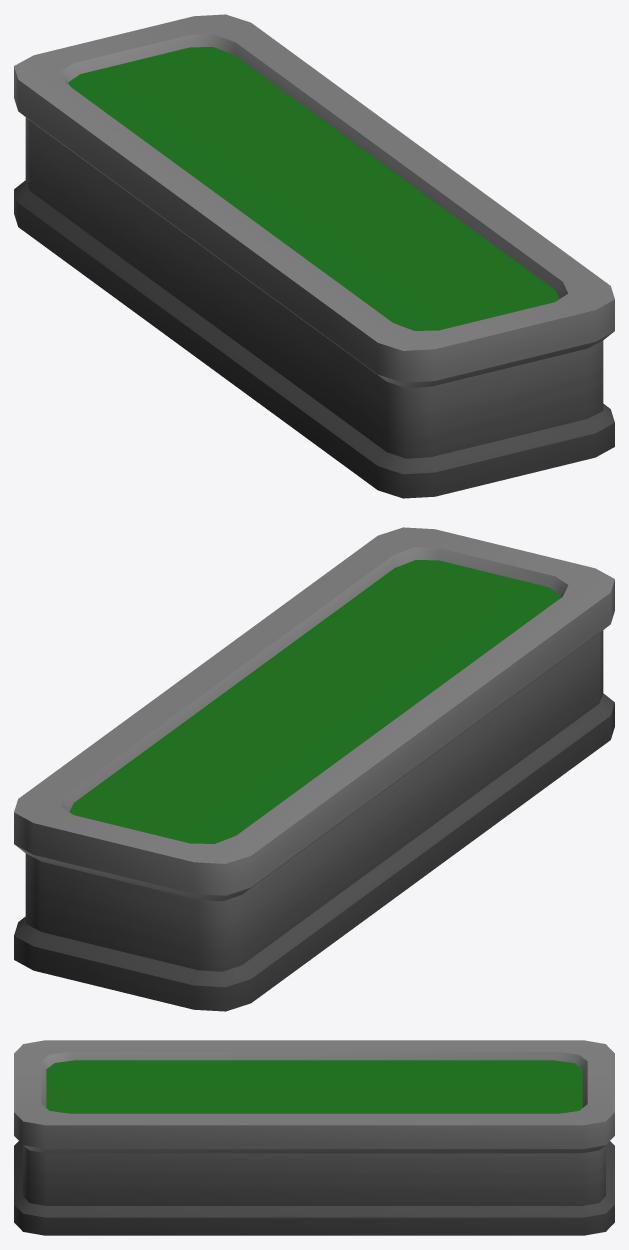
The model's file is FlowerPlacet_5_1_A.fbx.
3 renders of one model, top to bottom at view 1: azimuth 30°, elevation 25°; view 2: azimuth 150°, elevation 25°; view 3: azimuth 270°, elevation 25°, orthographic. The views are drawn at different scales.
Visible parts, largest first — view 1: FlowerPlacet_5_1_A; view 2: FlowerPlacet_5_1_A; view 3: FlowerPlacet_5_1_A.
Boxes of the visible parts, x1,y1,x2,y2 form: FlowerPlacet_5_1_A: [14, 14, 614, 498]; FlowerPlacet_5_1_A: [14, 527, 614, 1011]; FlowerPlacet_5_1_A: [14, 1040, 614, 1235].
Size of the model in its own units: 143 by 86.38 by 426.
